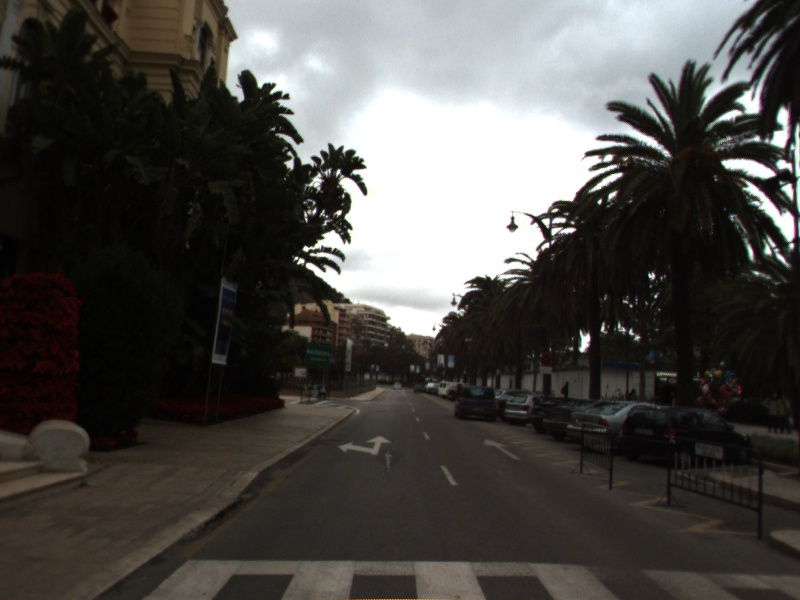STRAIGHT: (481, 436, 523, 462)
STRAIGHT_LEFT: (336, 433, 394, 457)
